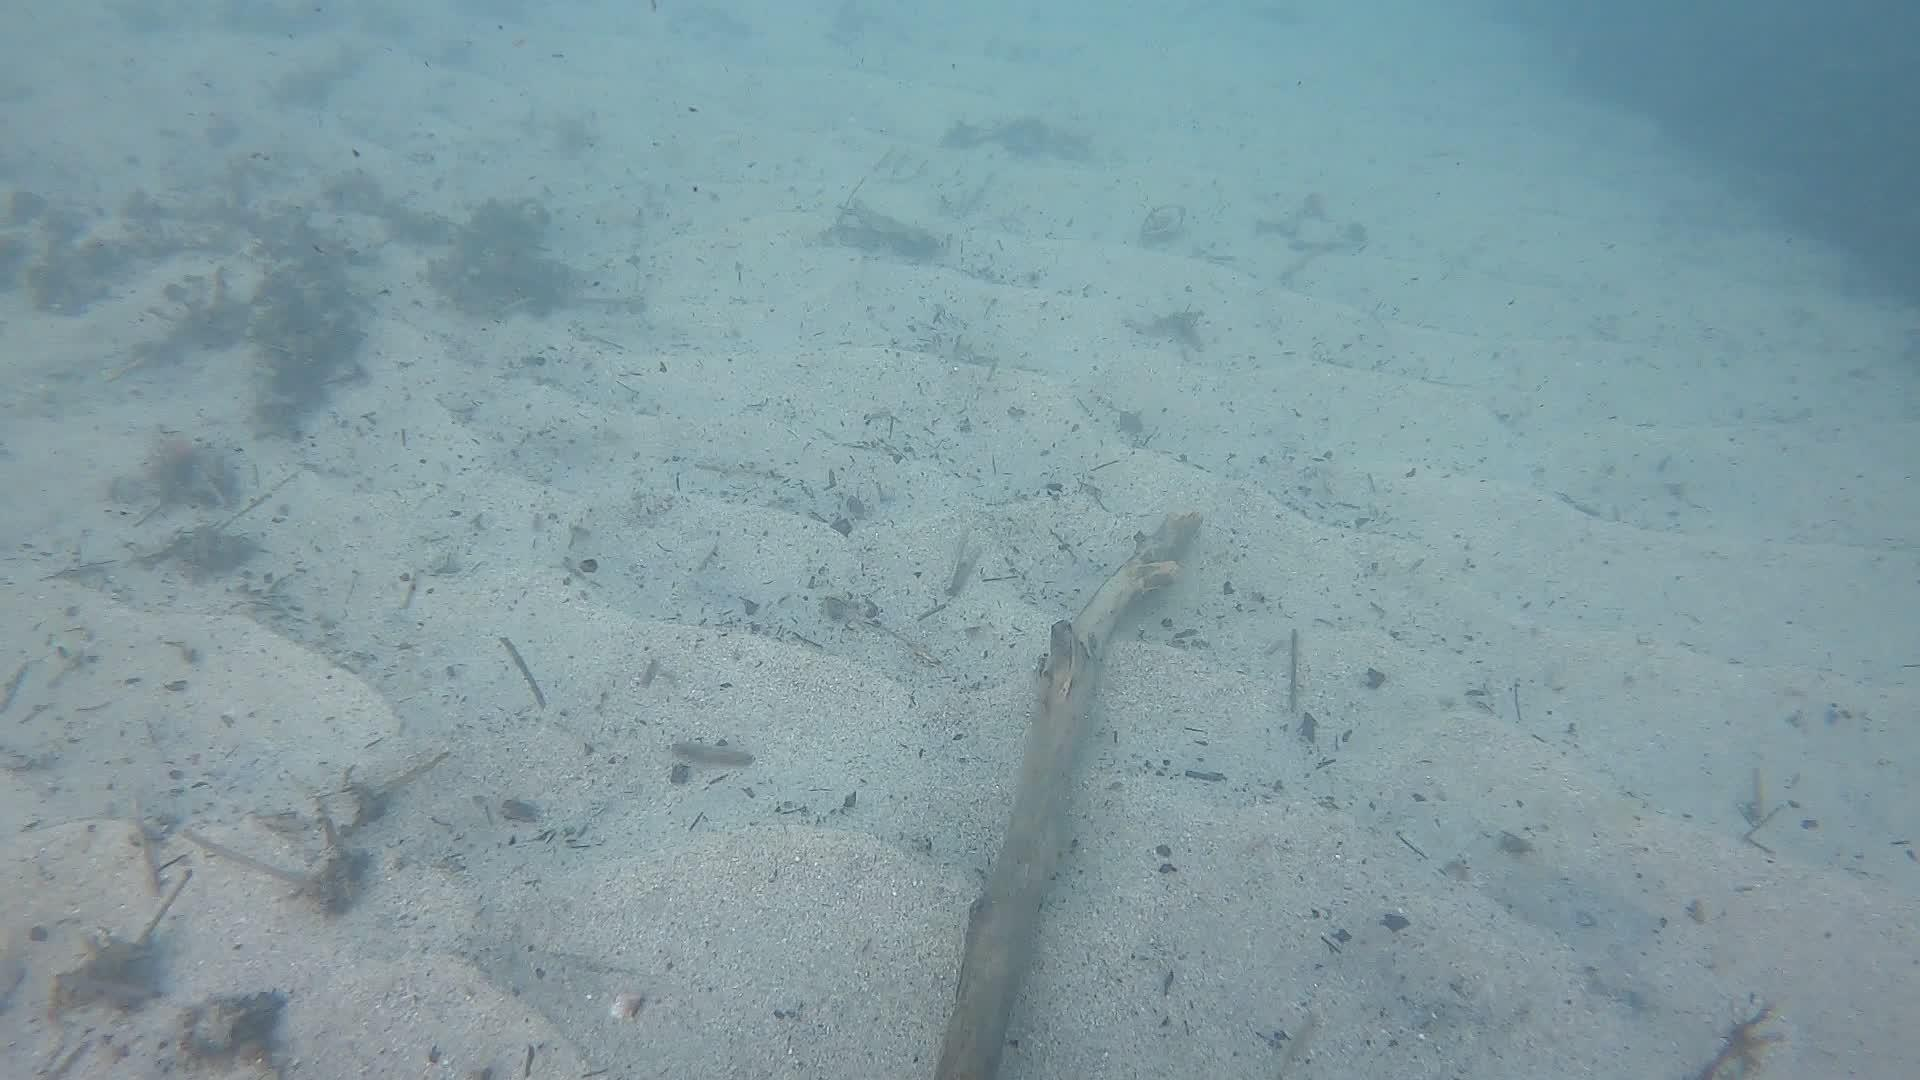wood: (935, 506, 1197, 1080)
